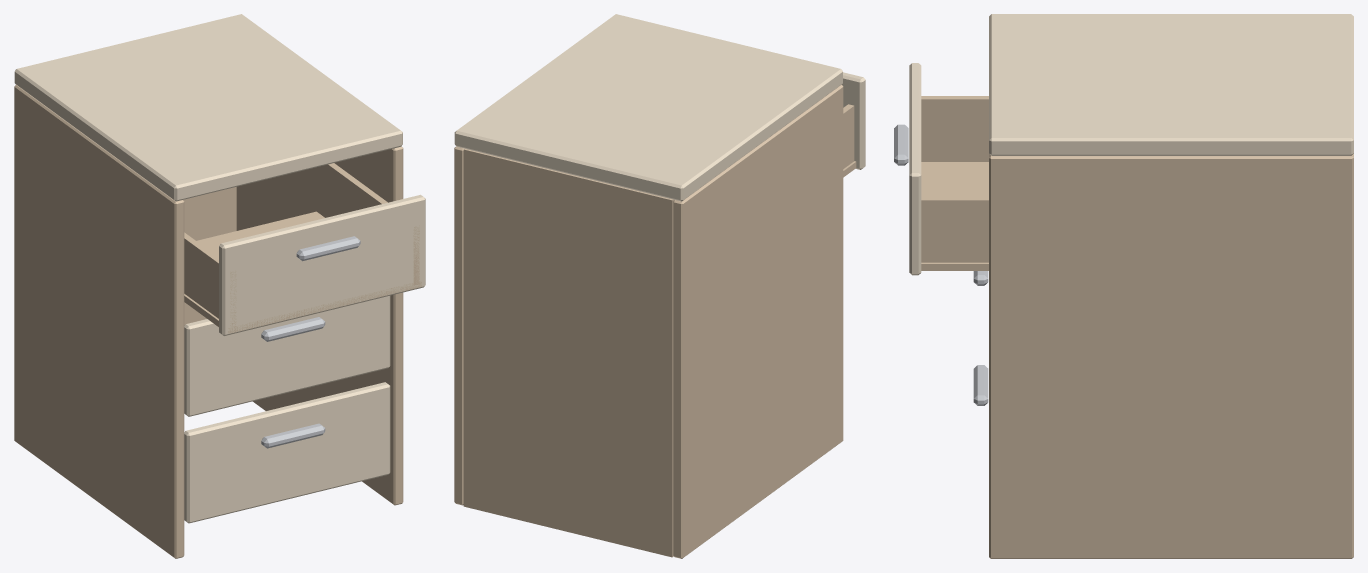
Rendered from gaveteiro.obj.
The picture shows the model from 3 angles, left to right: view 1: azimuth 30°, elevation 25°; view 2: azimuth 150°, elevation 25°; view 3: azimuth 270°, elevation 25°; orthographic projection. The views are drawn at different scales.
Parts seen in each view (by area): view 1: gaveteiro; view 2: gaveteiro; view 3: gaveteiro.
Boxes of the visible parts, left/top/right/bottom form: gaveteiro: left=14, top=14, right=425, bottom=558; gaveteiro: left=454, top=14, right=865, bottom=558; gaveteiro: left=894, top=14, right=1353, bottom=558.
Bounding box in the file's own units: 0.45 × 0.7 × 0.693.
